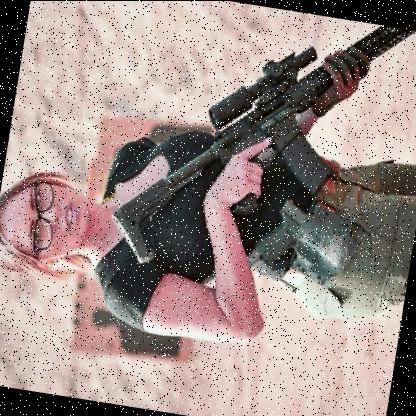rifle: (95, 0, 407, 297)
